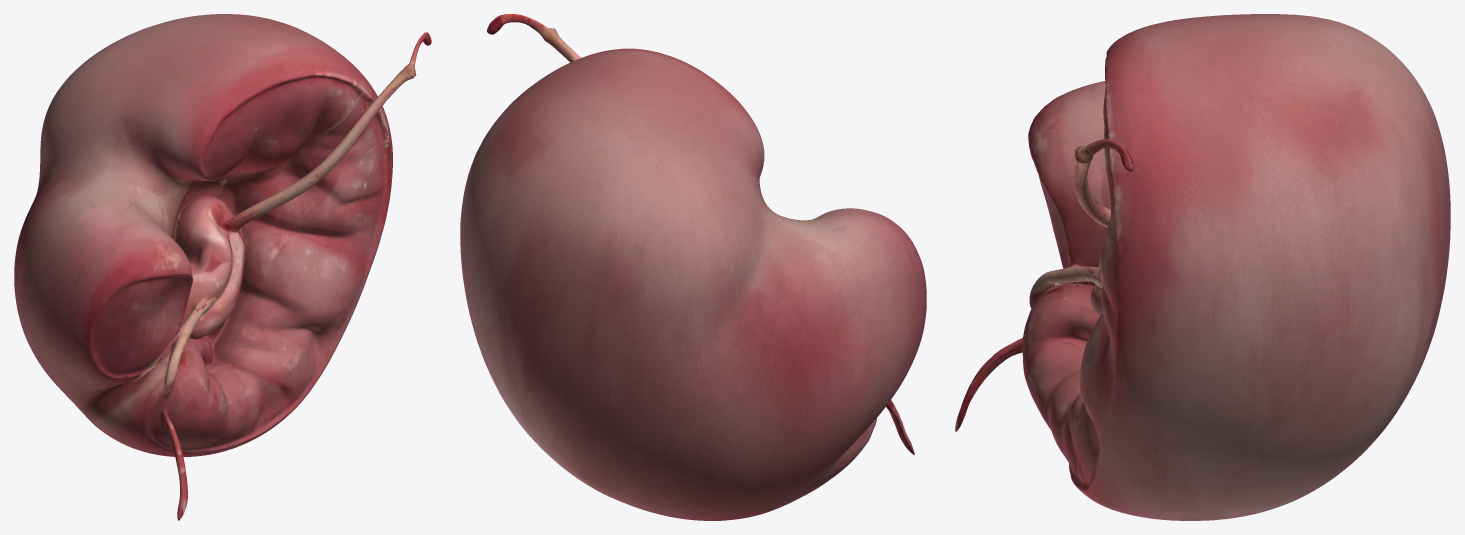
File: vet_v2_path_foreign-body.glb
3 renders of one model, left to right at view 1: azimuth 30°, elevation 25°; view 2: azimuth 150°, elevation 25°; view 3: azimuth 270°, elevation 25°, orthographic. The views are drawn at different scales.
Visible parts, largest first — view 1: model; view 2: model; view 3: model.
Boxes of the visible parts, x1,y1,x2,y2 form: model: (14,14,431,520); model: (460,14,926,520); model: (955,14,1450,520).
Size of the model in its own units: 1.85 by 1.77 by 1.57.
Materials: 1 (1 with a texture image).
